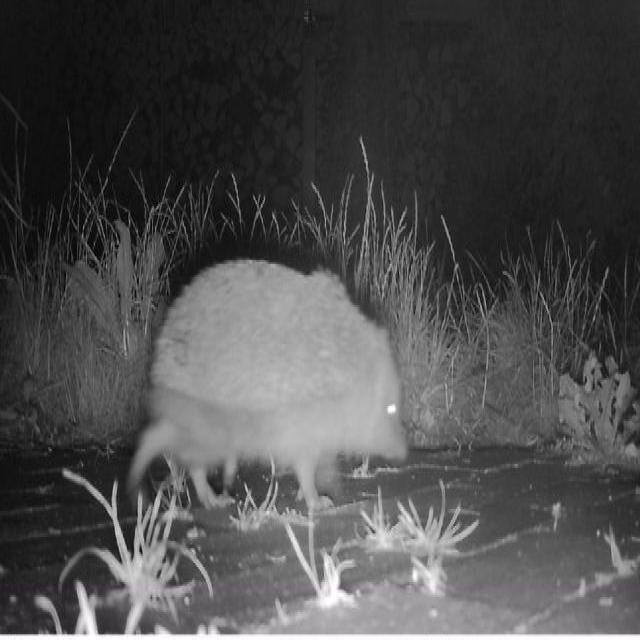Hedgehog: (122, 250, 417, 517)
